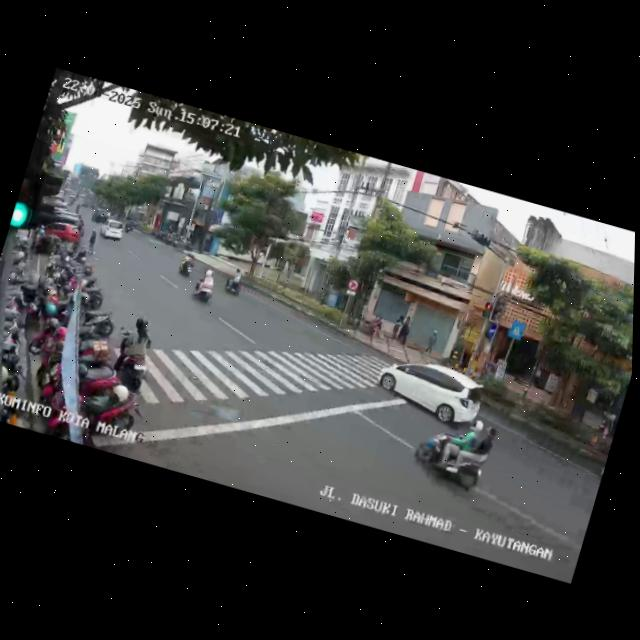car: (377, 348, 489, 434), (36, 203, 87, 251), (99, 215, 127, 243)
motorcycle: (412, 404, 501, 498), (102, 308, 163, 395), (190, 262, 221, 305), (223, 264, 250, 298), (177, 246, 199, 278)
person: (423, 327, 441, 355)
